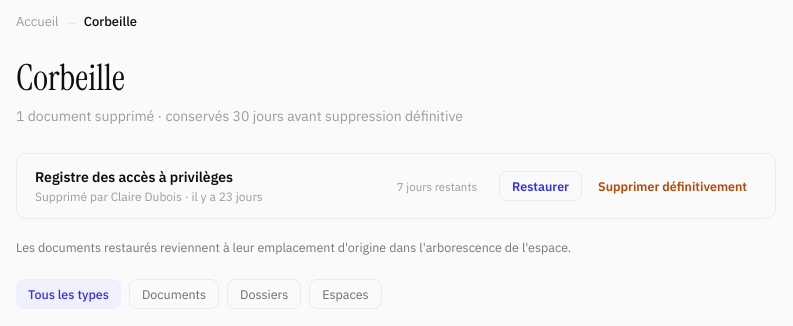
TrashPage › affiche la liste et filtre par type via l’API (pas en mémoire)
Expected: the text "Registre des accès à privilèges" is shown, [35, 168, 233, 186]
Click the button "Dossiers". click: (264, 294)
box: [227, 279, 301, 309]
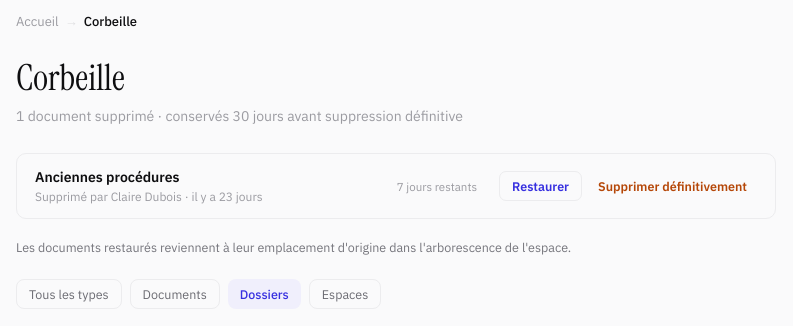
Expected: the text "Anciennes procédures" is shown, [35, 168, 180, 186]
